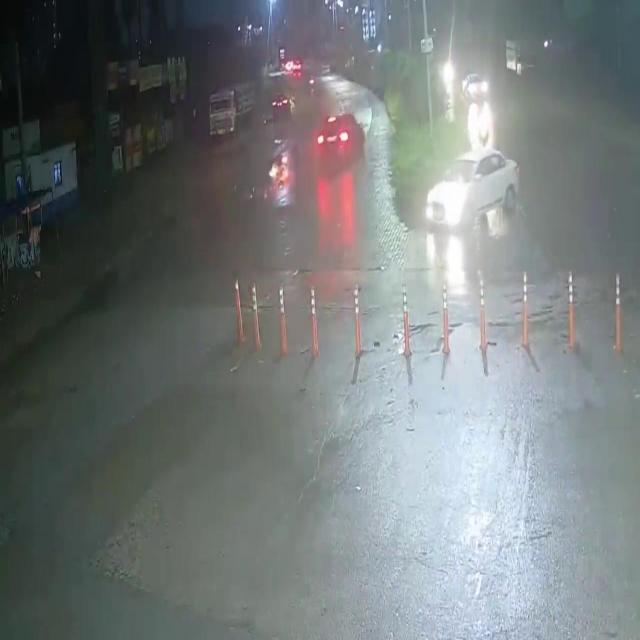accident: (252, 137, 302, 206)
